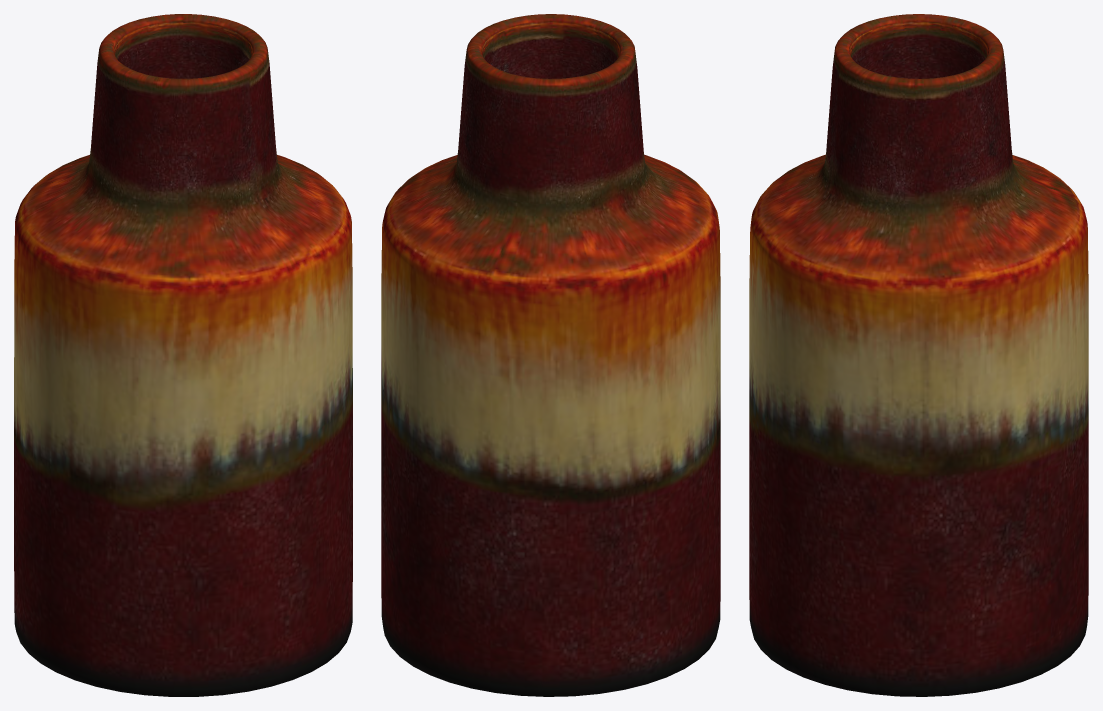
File: B07B8NVHX1.glb
The picture shows the model from 3 angles, left to right: view 1: azimuth 30°, elevation 25°; view 2: azimuth 150°, elevation 25°; view 3: azimuth 270°, elevation 25°; orthographic projection.
Parts seen in each view (by area): view 1: RootNode; view 2: RootNode; view 3: RootNode.
Part boxes in pixels (x1,y1,x2,y2): RootNode: (14, 14, 352, 696); RootNode: (381, 14, 720, 696); RootNode: (749, 14, 1088, 696).
Bounding box in the file's own units: 0.1079 × 0.2036 × 0.1079.
Materials: 1 (1 with a texture image).
